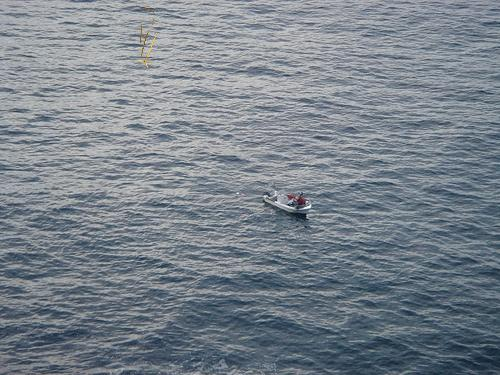tampered: (139, 9, 158, 68)
